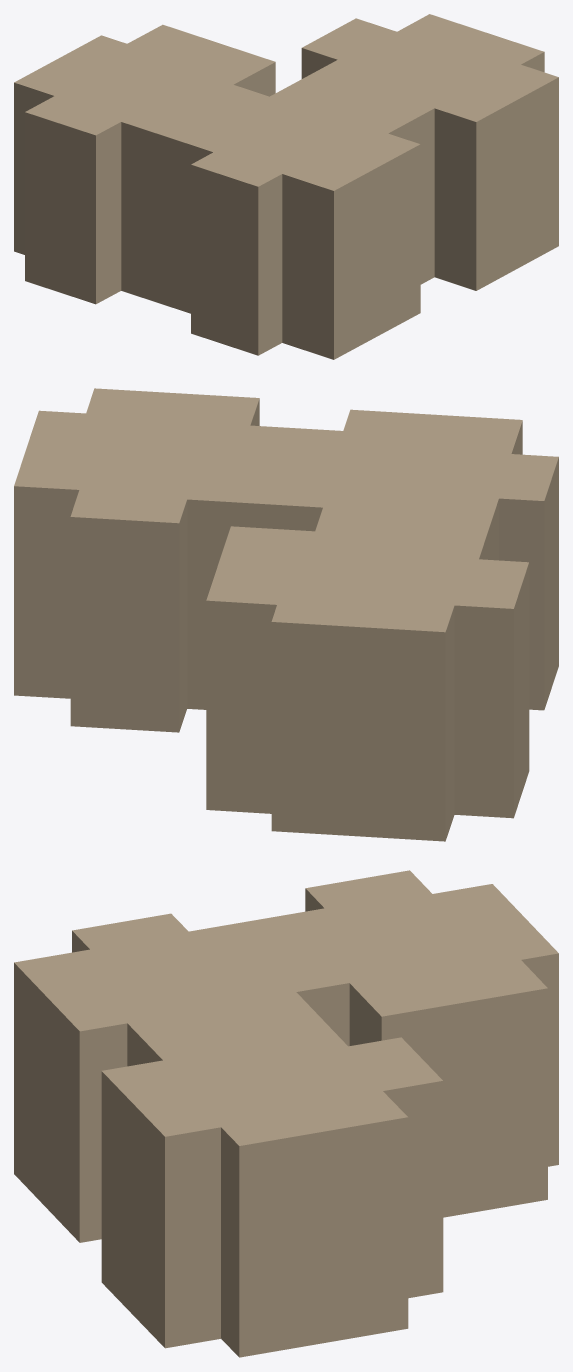
File: bld_106306741.dae
3 views of the same model, one above another, from view 1: azimuth 30°, elevation 25°; view 2: azimuth 150°, elevation 25°; view 3: azimuth 270°, elevation 25° (orthographic). The views are drawn at different scales.
Visible parts, largest first — view 1: bld_106306741; view 2: bld_106306741; view 3: bld_106306741.
Boxes of the visible parts, x1,y1,x2,y2 form: bld_106306741: (14,14,558,359); bld_106306741: (14,388,558,841); bld_106306741: (14,870,558,1357).
Bounding box in the file's own units: 22.37 × 18.68 × 8.
